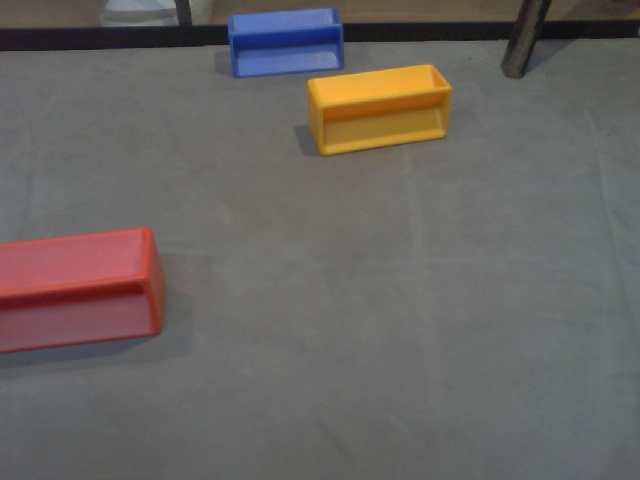BlueSample: (225, 9, 346, 78)
RedSample: (1, 224, 168, 356)
YellowSample: (304, 60, 453, 159)
